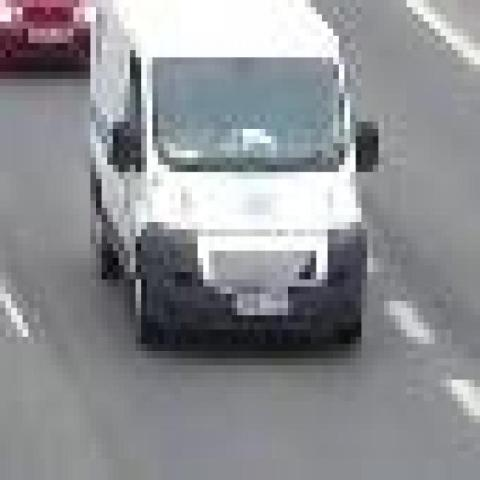van: (90, 0, 362, 351)
